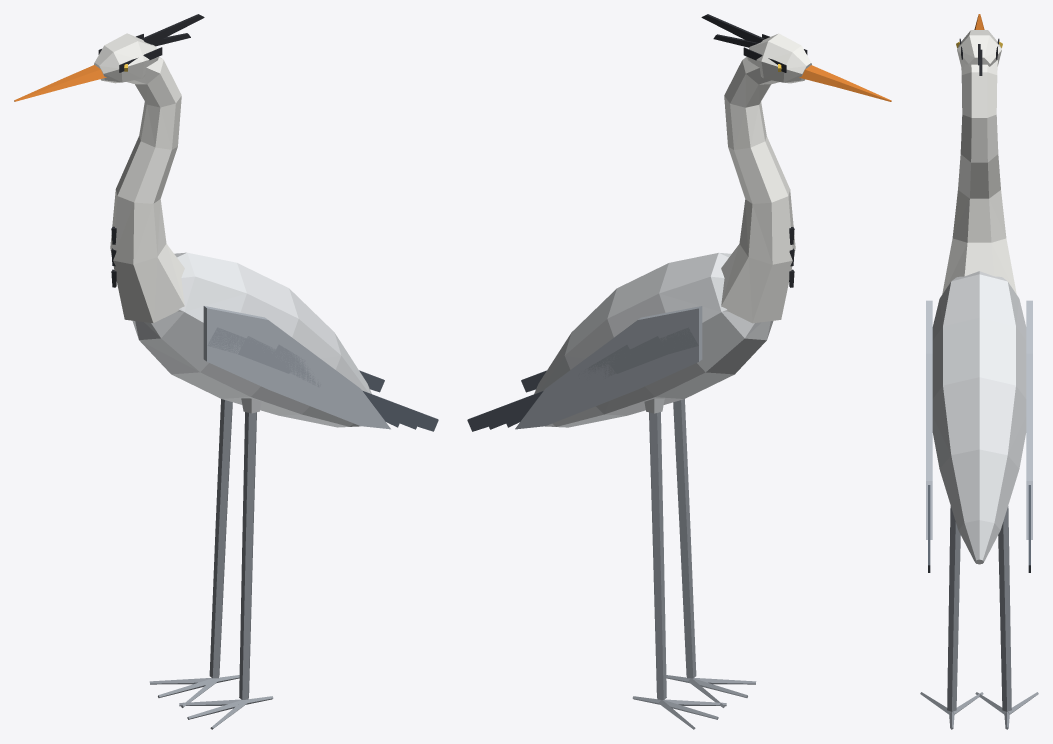
Rendered from heron.glb.
The picture shows the model from 3 angles, left to right: view 1: azimuth 30°, elevation 25°; view 2: azimuth 150°, elevation 25°; view 3: azimuth 270°, elevation 25°; orthographic projection. The views are drawn at different scales.
Visible parts, largest first — view 1: body, head, wing, back_toe, covert, primary, crest, beak; view 2: body, head, back_toe, wing, covert, primary, crest, beak; view 3: body, head, back_toe, wing, primary.
Boxes of the visible parts, x1=… form: body: x1=132, y1=252, x2=371, y2=427; head: x1=94, y1=33, x2=184, y2=323; wing: x1=203, y1=306, x2=390, y2=429; back_toe: x1=149, y1=399, x2=273, y2=729; covert: x1=207, y1=327, x2=320, y2=387; primary: x1=359, y1=370, x2=438, y2=431; crest: x1=98, y1=14, x2=204, y2=287; beak: x1=14, y1=65, x2=106, y2=101; body: x1=534, y1=252, x2=773, y2=427; head: x1=721, y1=33, x2=811, y2=323; back_toe: x1=632, y1=399, x2=756, y2=729; wing: x1=515, y1=306, x2=702, y2=429; covert: x1=578, y1=327, x2=698, y2=378; primary: x1=467, y1=370, x2=546, y2=431; crest: x1=701, y1=14, x2=807, y2=287; beak: x1=799, y1=65, x2=891, y2=101; body: x1=932, y1=271, x2=1026, y2=564; head: x1=942, y1=30, x2=1016, y2=294; back_toe: x1=920, y1=506, x2=1038, y2=729; wing: x1=926, y1=300, x2=1032, y2=539; primary: x1=928, y1=485, x2=1030, y2=572.
Size of the model in its own units: 0.7751 by 1.28 by 0.2152.
